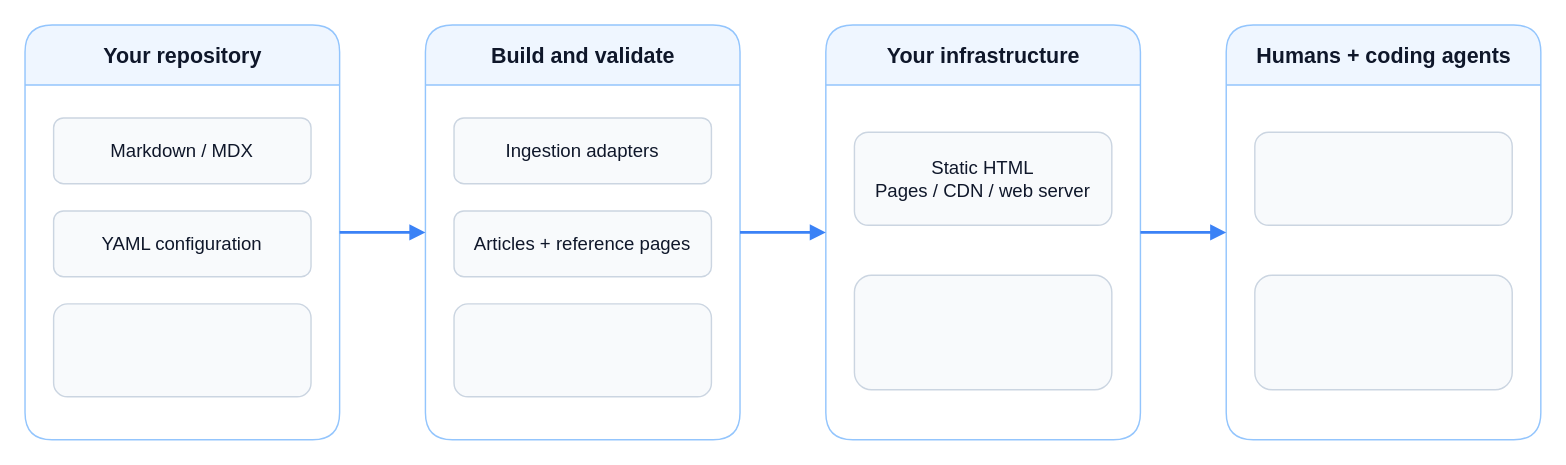
Some shapes in this 1566 by 465 pixel diagram are drawn without their labels. Here are the shapes that lost their labels. From the top down, the centre of each, then its label:
At pixel 1382 178: "Searchable guides API and SDK reference".
At pixel 181 349: "OpenAPI + native SDK docs".
At pixel 582 349: "Configuration, types + links".
At pixel 982 332: "Node / Bun Permission-gated docs + live queries".
At pixel 1382 332: "Markdown / JSON exports Citable documentation".
